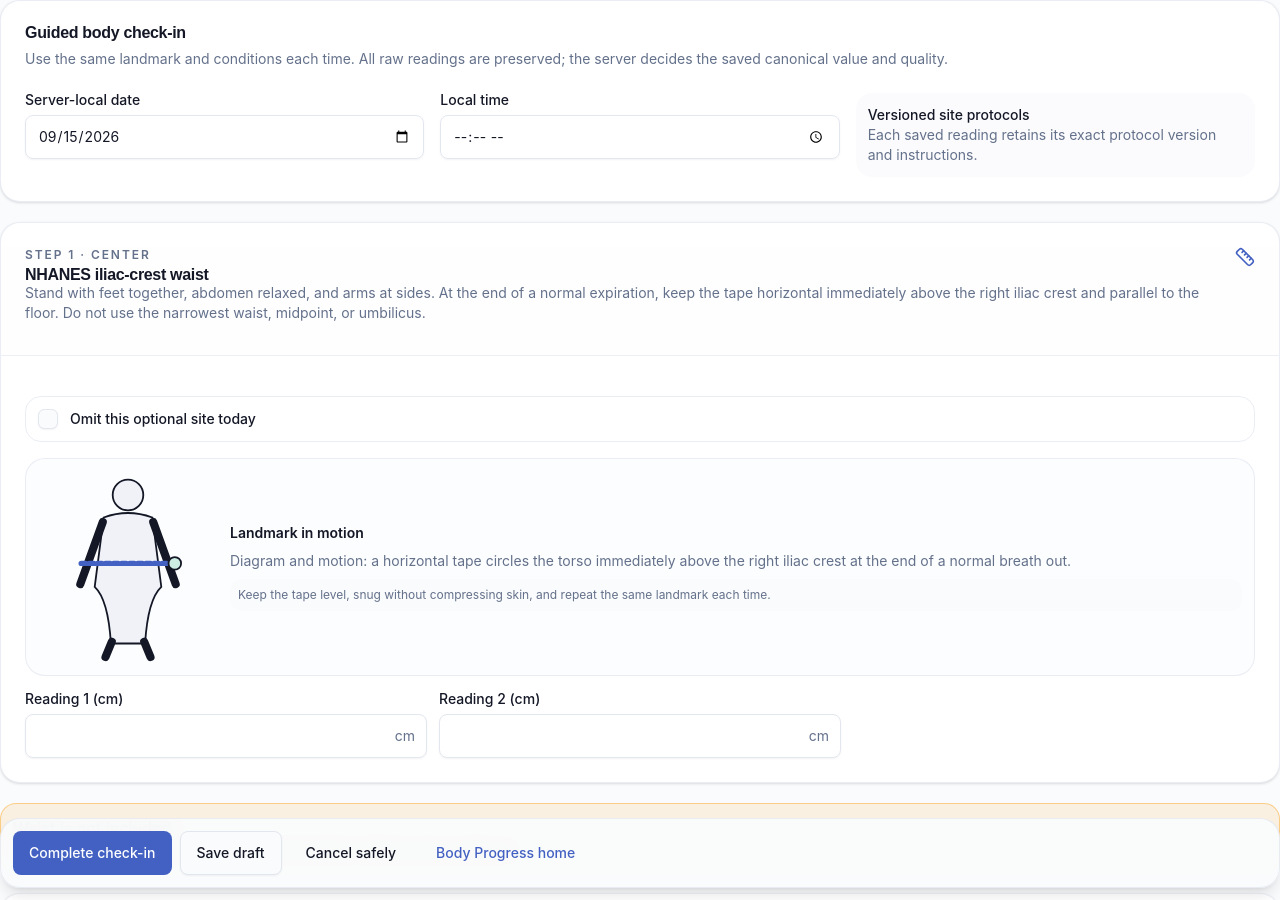
GuidedCheckInForm › retains all three raw values and warns without shaming on high variance
The width and height of the screenshot is (1280, 900).
Type "84.0" into the number field labelled "Reading 1 (cm)".
click(226, 736); type("84.0")  # box [25,714,427,758]
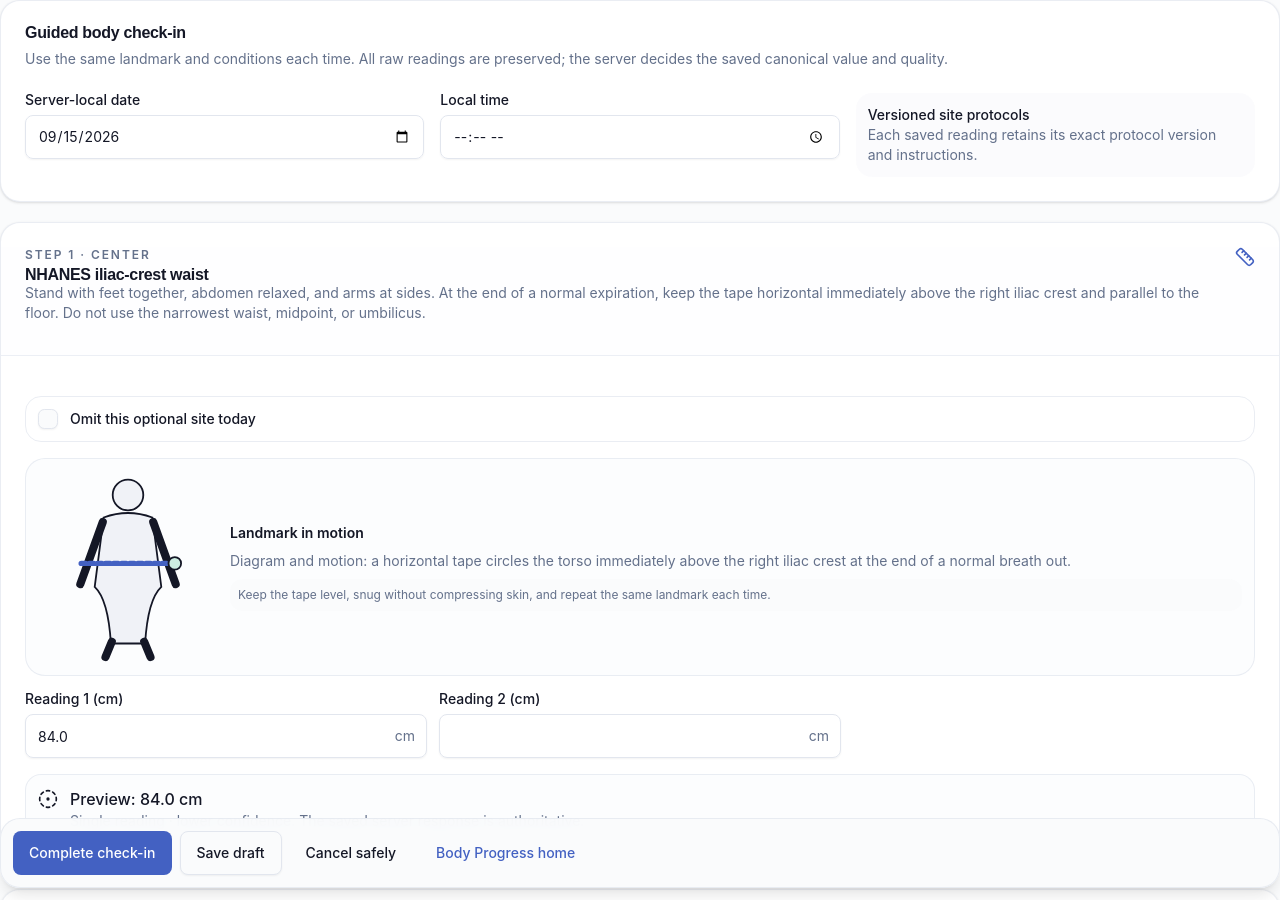
Type "85.2" into the number field labelled "Reading 2 (cm)".
click(640, 736); type("85.2")  # box [439,714,841,758]
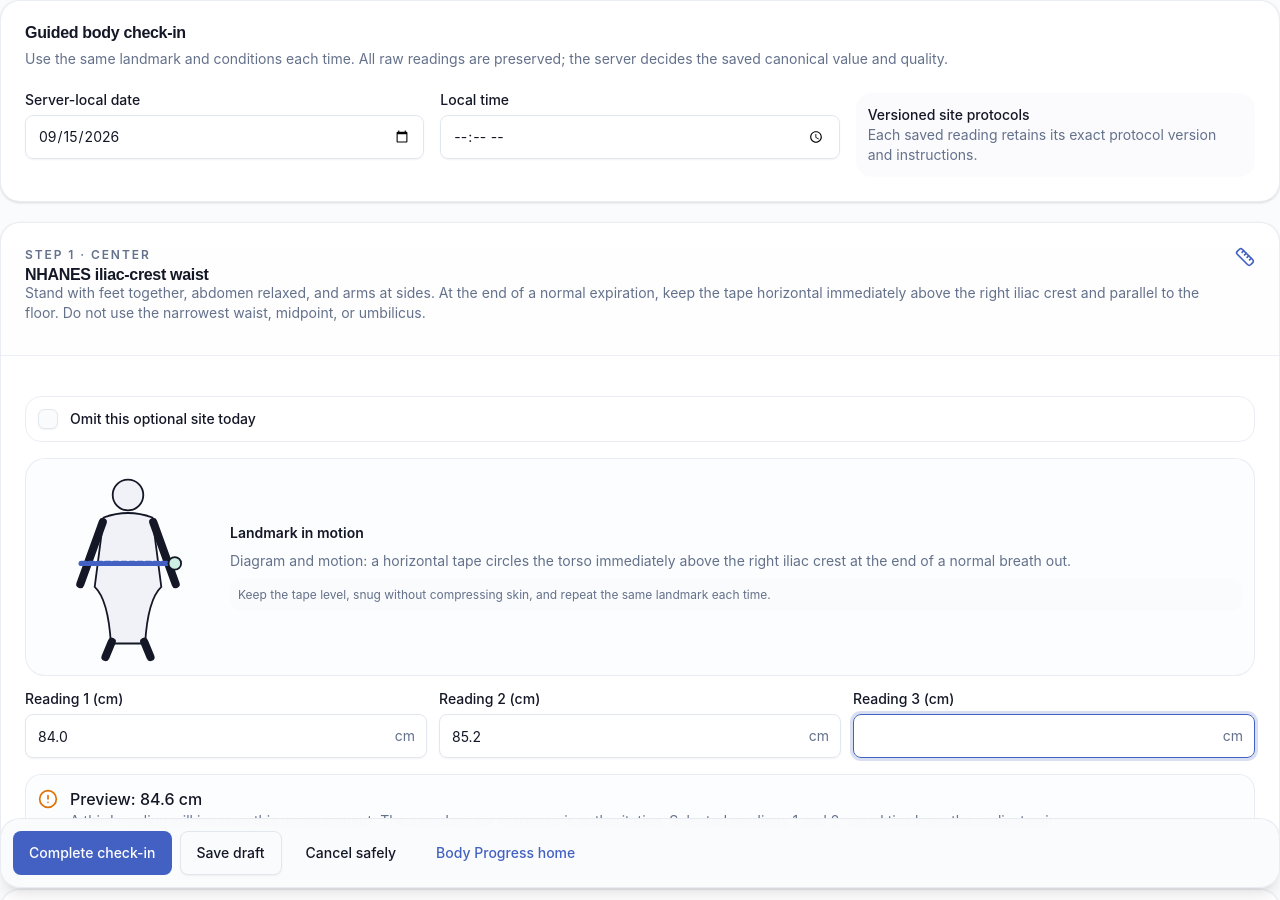
Type "88.0" into the number field labelled "Reading 3 (cm)".
click(1054, 736); type("88.0")  # box [853,714,1255,758]
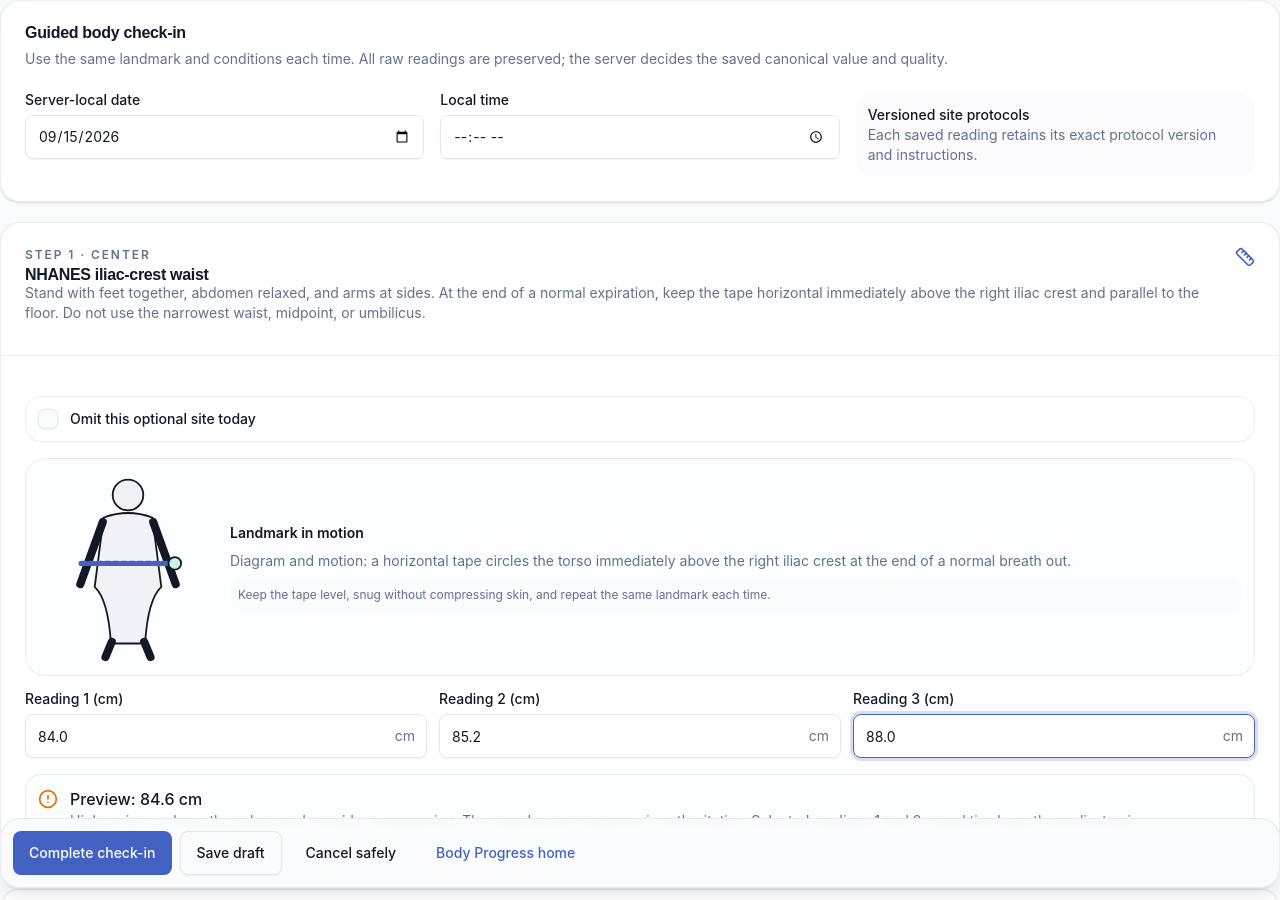
Result: the text "High variance · keep the values and consider remeasuring" is shown at [70,812,454,829]
